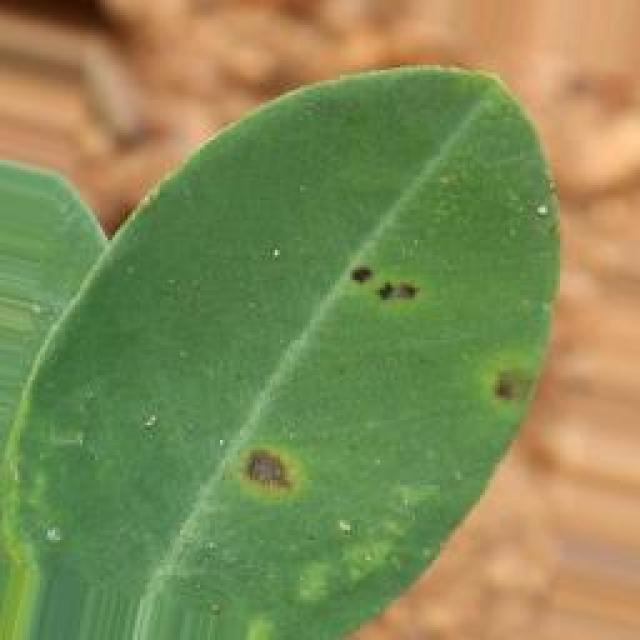Sigatoka: (216, 418, 314, 523), (330, 251, 452, 322), (489, 353, 547, 418)
